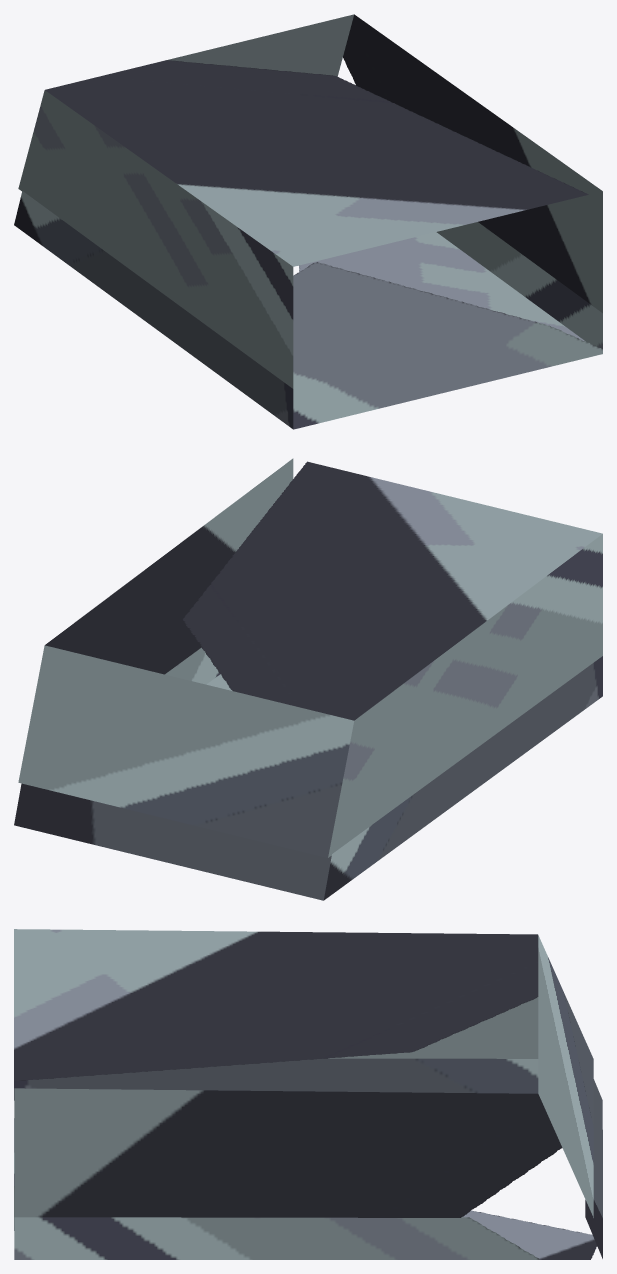
The model's file is ss8_carport_link.obj.
3 views of the same model, one above another, from view 1: azimuth 30°, elevation 25°; view 2: azimuth 150°, elevation 25°; view 3: azimuth 270°, elevation 25° (orthographic). The views are drawn at different scales.
Visible parts, largest first — view 1: cube_selection_selection_selection_selection_selection_selection; view 2: cube_selection_selection_selection_selection_selection_selection; view 3: cube_selection_selection_selection_selection_selection_selection.
Part boxes in pixels (<box>): cube_selection_selection_selection_selection_selection_selection: <box>14,14,602,429</box>; cube_selection_selection_selection_selection_selection_selection: <box>14,458,602,900</box>; cube_selection_selection_selection_selection_selection_selection: <box>14,929,602,1259</box>.
Bounding box in the file's own units: 1 × 0.5022 × 1.56.
